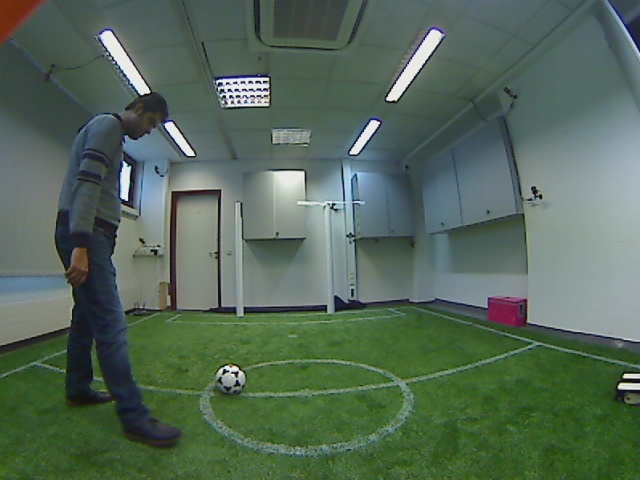ball: (210, 360, 249, 398)
